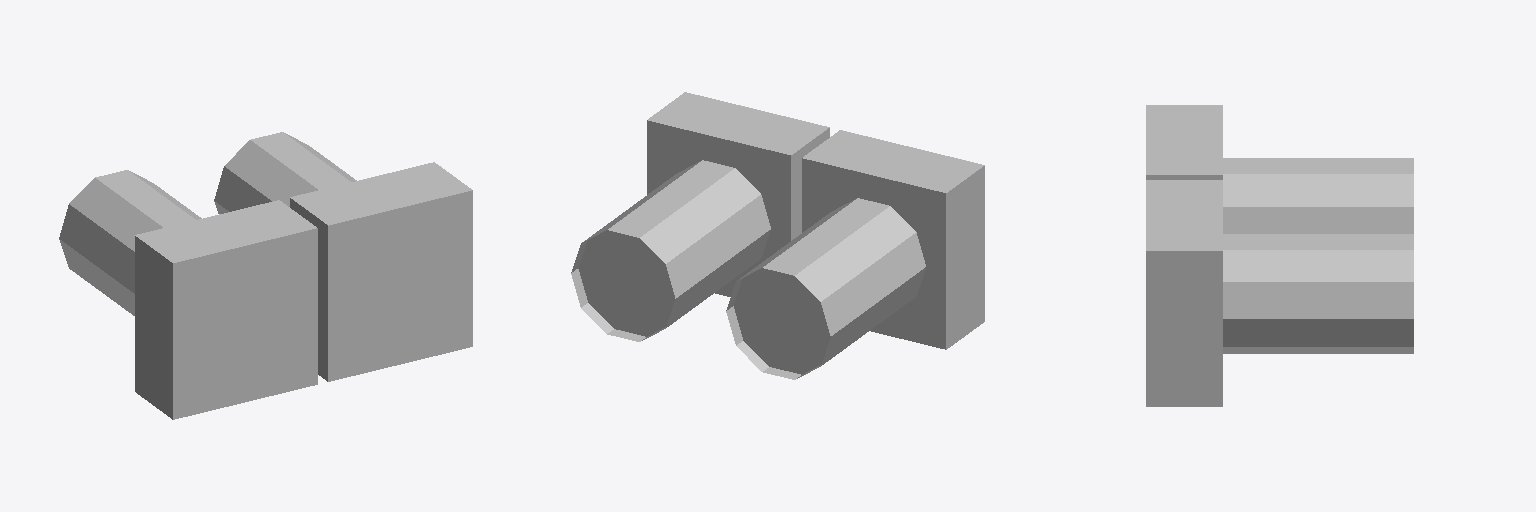
Rendered from covi检测.obj.
3 views of the same model, side by side, from view 1: azimuth 30°, elevation 25°; view 2: azimuth 150°, elevation 25°; view 3: azimuth 270°, elevation 25° (orthographic).
Parts seen in each view (by area): view 1: Cylinder001, Cylinder003; view 2: Cylinder001, Cylinder003, Object002, Object003, Cylinder002, Cylinder004, Cylinder006, Cylinder005; view 3: Cylinder003, Cylinder001.
Part boxes in pixels (x1,y1,x2,y2): Cylinder001: (59,170,317,419); Cylinder003: (214,132,472,381); Cylinder001: (726,130,984,379); Cylinder003: (571,92,829,341); Object002: (734,268,830,374); Object003: (578,230,674,336); Cylinder002: (791,309,823,343); Cylinder004: (633,271,665,304); Cylinder006: (588,260,620,293); Cylinder005: (742,298,775,331); Cylinder003: (1146,180,1413,406); Cylinder001: (1146,105,1413,233).
Bounding box in the file's own units: 332 × 166 × 258.